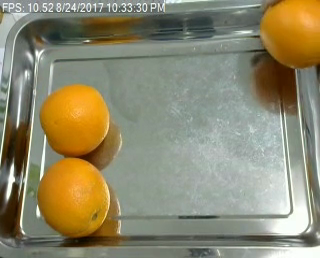Orange: (36, 155, 109, 236), (39, 83, 110, 155), (258, 1, 319, 68)
